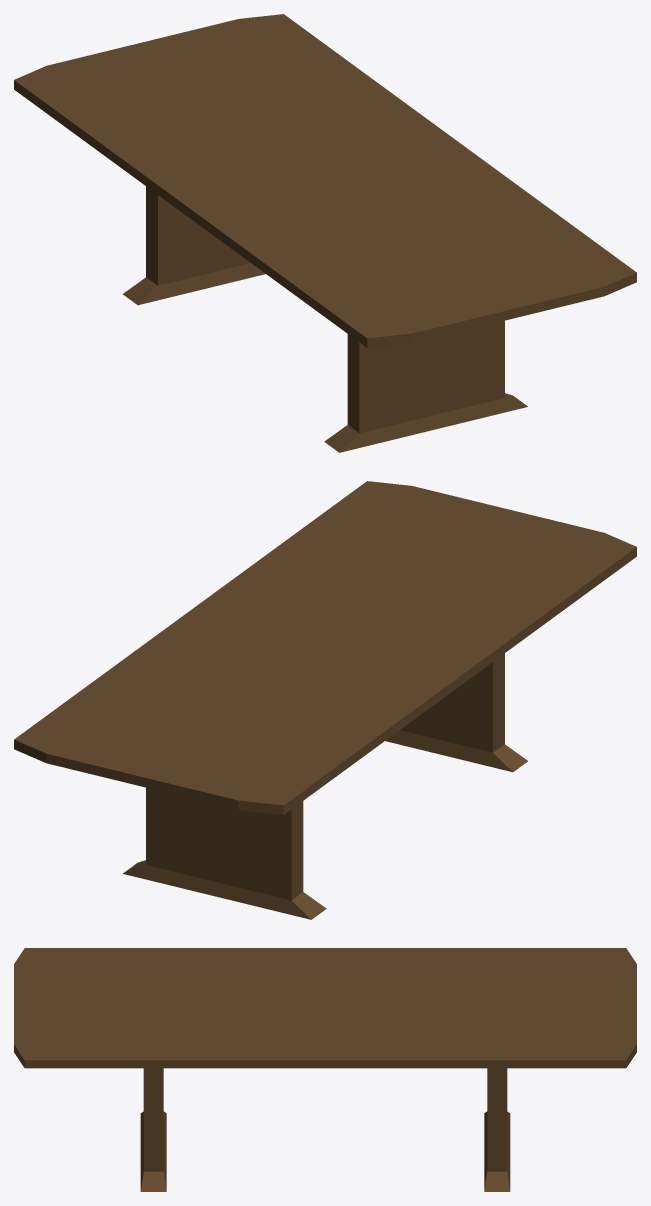
Rendered from table.glb.
The picture shows the model from 3 angles, top to bottom: view 1: azimuth 30°, elevation 25°; view 2: azimuth 150°, elevation 25°; view 3: azimuth 270°, elevation 25°; orthographic projection. The views are drawn at different scales.
Parts seen in each view (by area): view 1: table; view 2: table; view 3: table.
Boxes of the visible parts, <box> form: table: <box>14,14,636,452</box>; table: <box>14,481,636,919</box>; table: <box>14,948,636,1191</box>.
Bounding box in the file's own units: 5.63 × 3.48 × 13.23.
